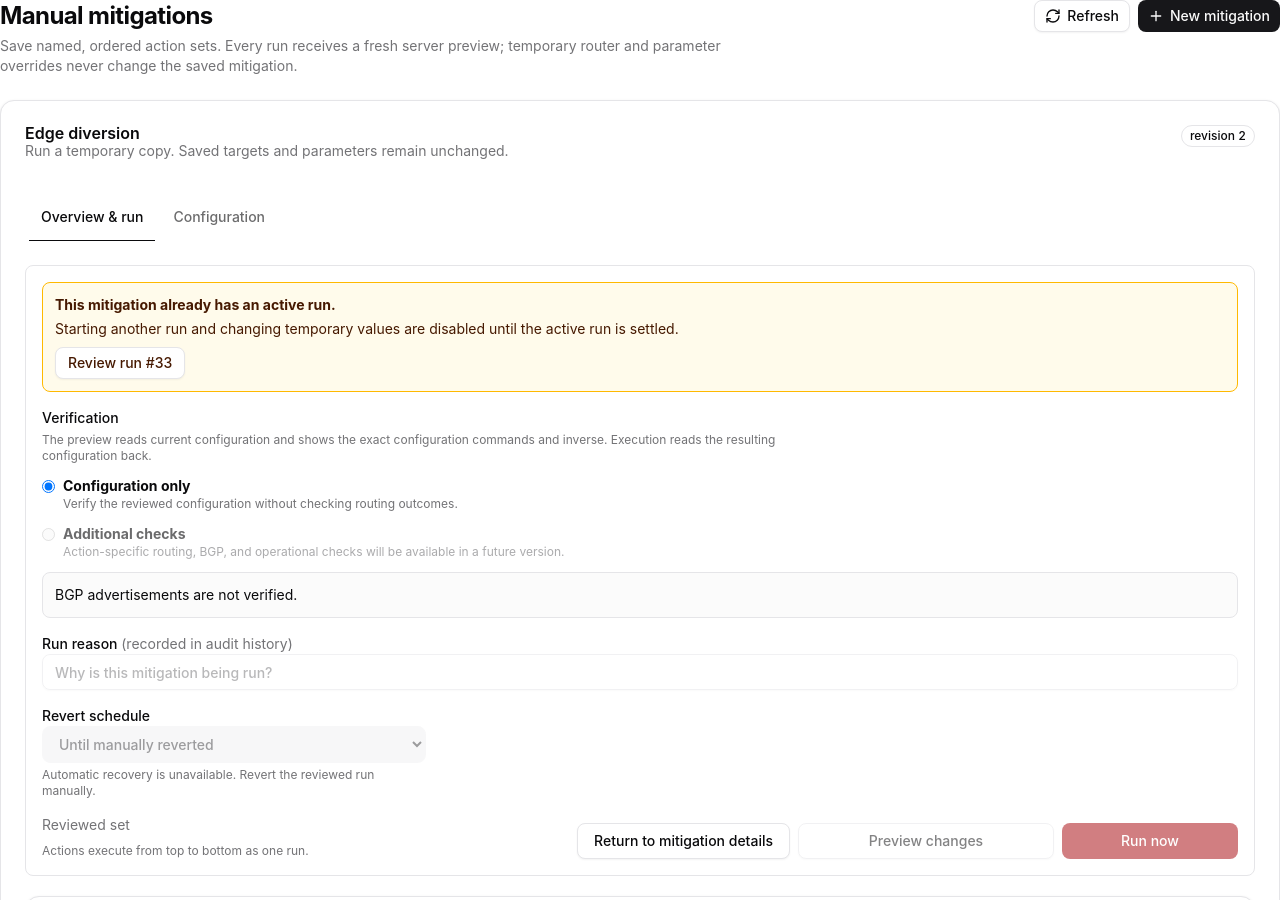
locks a saved mitigation after navigation while its run remains active
Expected: the text "This mitigation already has an active run." is shown, [55,296,336,313]
Expected: the button "Preview changes" is disabled, [798,823,1054,859]
Step 1. Click the tab "Configuration" → (219, 217), box [160,196,278,238]
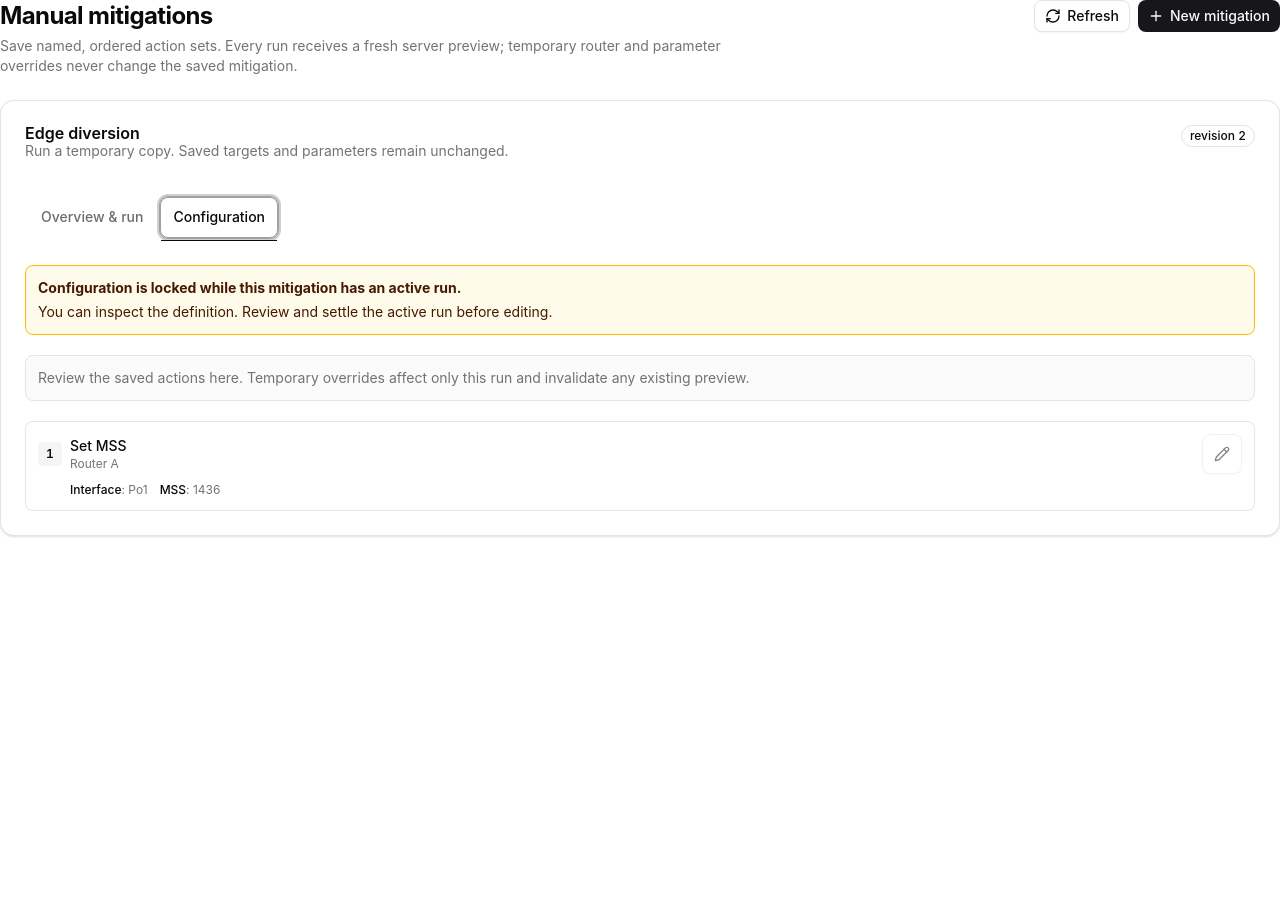
Now the button named "Override action 1" is disabled, box [1202,434,1242,474]
